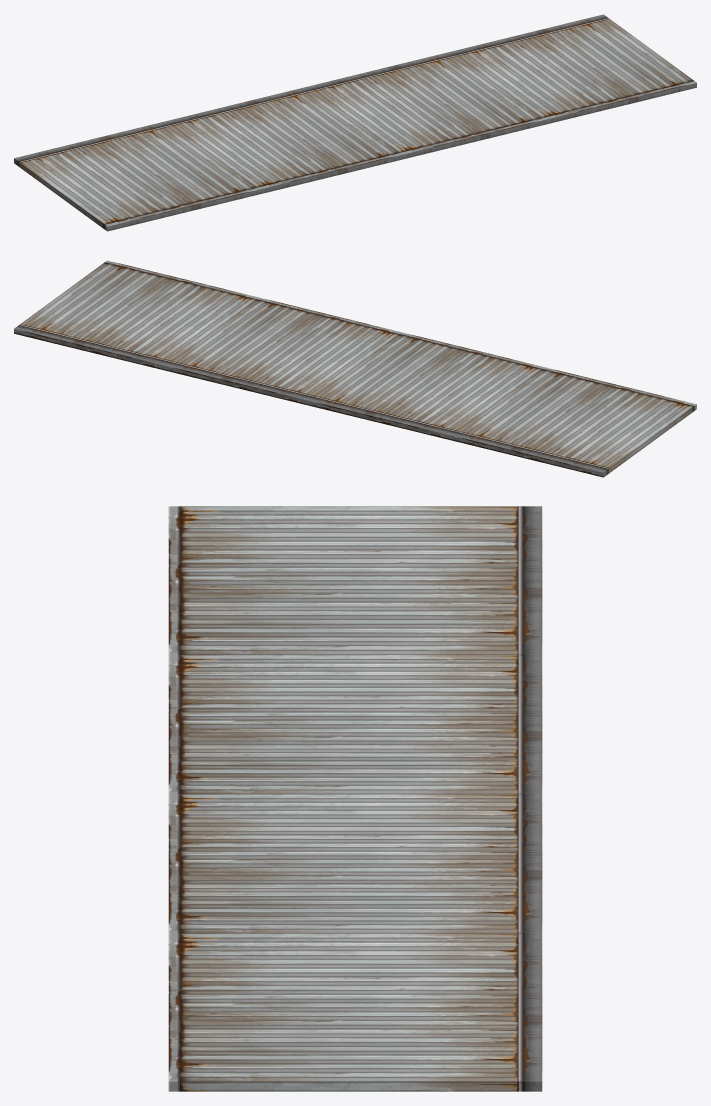
File: roof_container_12m.fbx
3 views of the same model, one above another, from view 1: azimuth 30°, elevation 25°; view 2: azimuth 150°, elevation 25°; view 3: azimuth 270°, elevation 25° (orthographic). The views are drawn at different scales.
Parts seen in each view (by area): view 1: roof_container_12m; view 2: roof_container_12m; view 3: roof_container_12m.
Part boxes in pixels (left/top/right/bottom): roof_container_12m: left=14, top=14, right=696, bottom=231; roof_container_12m: left=14, top=260, right=696, bottom=477; roof_container_12m: left=168, top=506, right=542, bottom=1091.
Size of the model in its own units: 1240 by 10 by 340.
